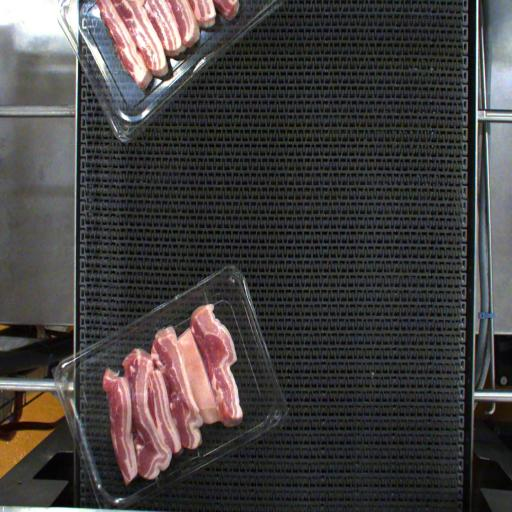twisted-meat: (178, 330, 218, 432)
